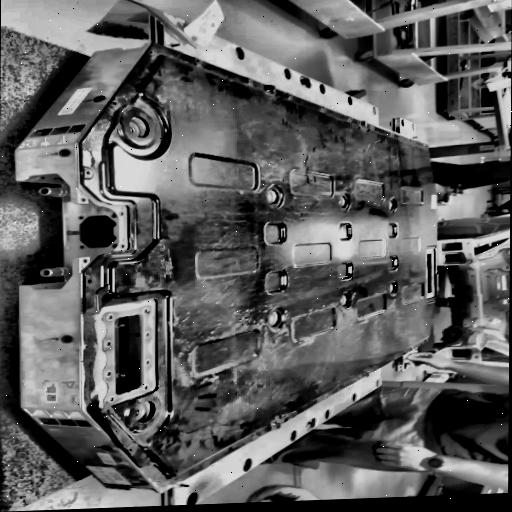b_casing: (73, 40, 444, 496)
